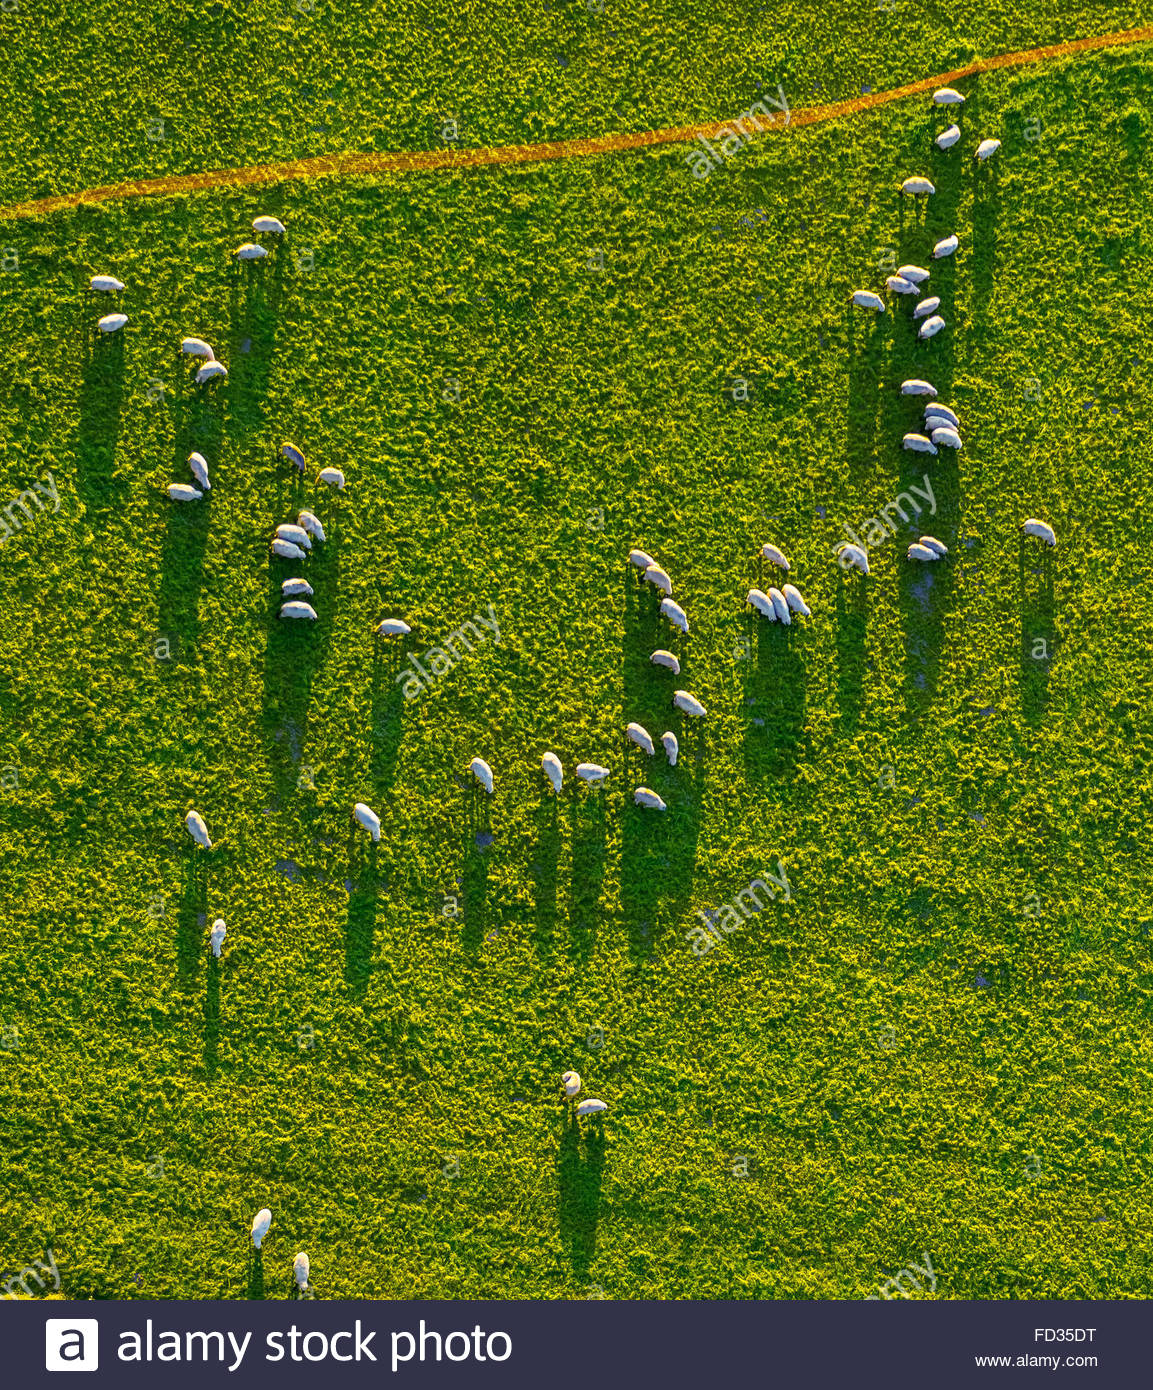sheep: (656, 596, 690, 636), (184, 806, 211, 854), (467, 755, 497, 797), (353, 802, 382, 844), (838, 541, 871, 577), (539, 749, 566, 794), (623, 719, 654, 757), (1021, 517, 1056, 550), (783, 581, 813, 618), (272, 521, 310, 550), (676, 689, 707, 724), (765, 586, 789, 629), (747, 588, 776, 623), (851, 287, 885, 316), (249, 1208, 272, 1250), (649, 650, 681, 679), (299, 510, 327, 544), (267, 538, 305, 562), (897, 174, 935, 199), (632, 785, 668, 810), (179, 336, 215, 361), (900, 432, 937, 456), (279, 600, 317, 623), (645, 563, 674, 593), (759, 541, 791, 569), (87, 274, 126, 296), (230, 241, 267, 264), (95, 311, 129, 335), (319, 464, 347, 493), (575, 762, 611, 785), (290, 1250, 310, 1290), (279, 577, 314, 600), (935, 83, 966, 109), (188, 451, 210, 487), (249, 214, 285, 236), (209, 917, 227, 958), (166, 484, 203, 505), (935, 122, 963, 150), (907, 541, 939, 565), (933, 233, 959, 261), (374, 616, 411, 636), (914, 316, 946, 338), (888, 275, 920, 297), (900, 379, 941, 396), (194, 363, 227, 383), (934, 426, 961, 450), (976, 136, 1001, 163), (660, 730, 679, 764), (576, 1097, 606, 1118), (919, 536, 949, 555), (627, 550, 653, 571), (560, 1070, 581, 1098), (915, 296, 941, 317)
